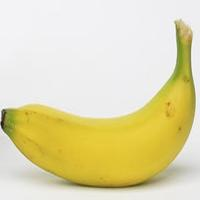banane: (1, 16, 199, 188)
